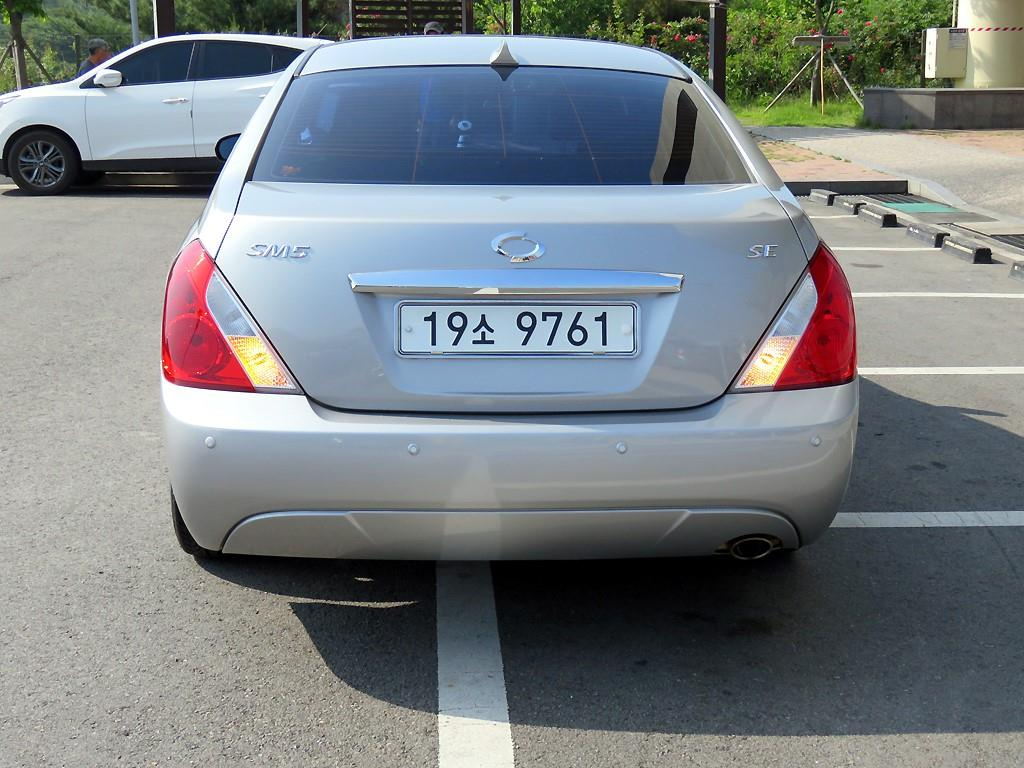plate: (399, 305, 636, 354)
